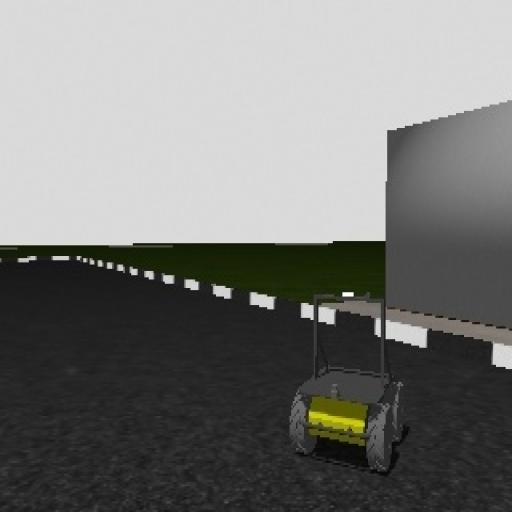huskya200: (275, 281, 424, 467)
